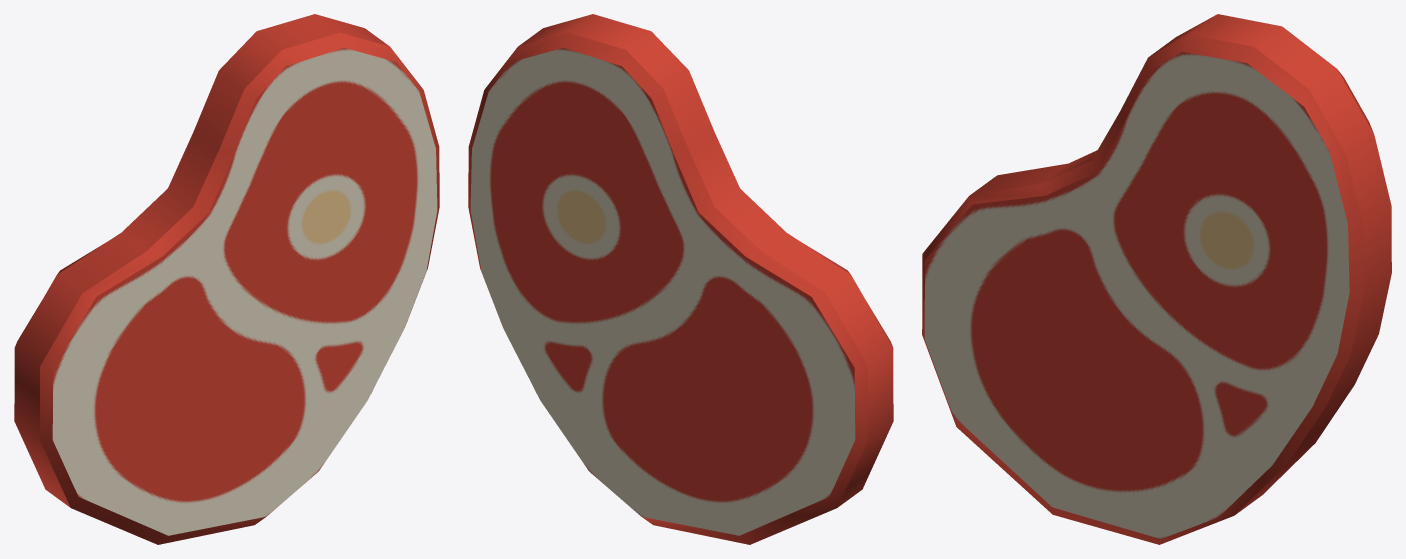
File: Farm_Animal_Product_Meat_Steak.fbx
3 renders of one model, left to right at view 1: azimuth 30°, elevation 25°; view 2: azimuth 150°, elevation 25°; view 3: azimuth 330°, elevation 25°, orthographic. The views are drawn at different scales.
Parts seen in each view (by area): view 1: Farm_Animal_Product_Meat_Steak; view 2: Farm_Animal_Product_Meat_Steak; view 3: Farm_Animal_Product_Meat_Steak.
Part boxes in pixels (left/top/right/bottom): Farm_Animal_Product_Meat_Steak: left=14, top=14, right=439, bottom=544; Farm_Animal_Product_Meat_Steak: left=468, top=14, right=893, bottom=544; Farm_Animal_Product_Meat_Steak: left=922, top=14, right=1391, bottom=544.
Bounding box in the file's own units: 43.39 × 48.92 × 6.79.
